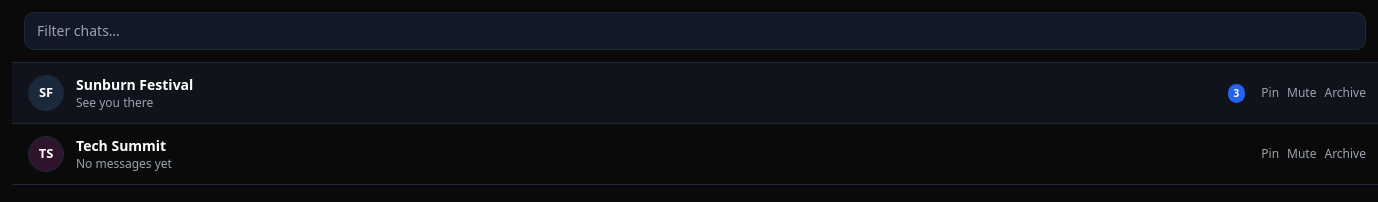
it: RoomList › filters as you type
In the field labelled "Filter chats": (695, 31) x1=24 y1=12 x2=1366 y2=50, type "tech"
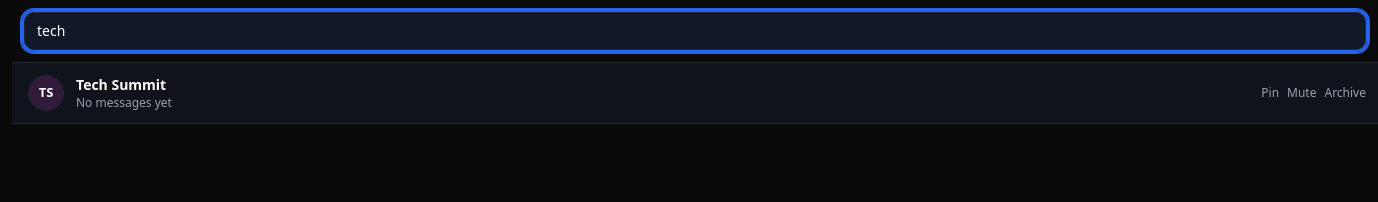
Expected: the text "Tech Summit" is shown, x1=76 y1=75 x2=166 y2=94
Expected: the button "Sunburn Festival" is gone
